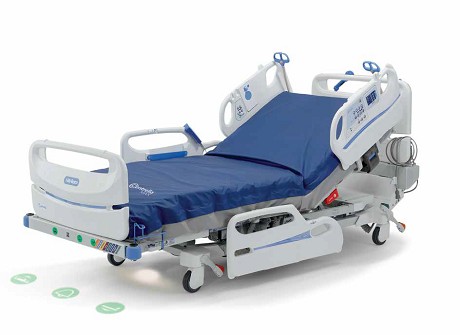bed: (24, 47, 432, 300)
